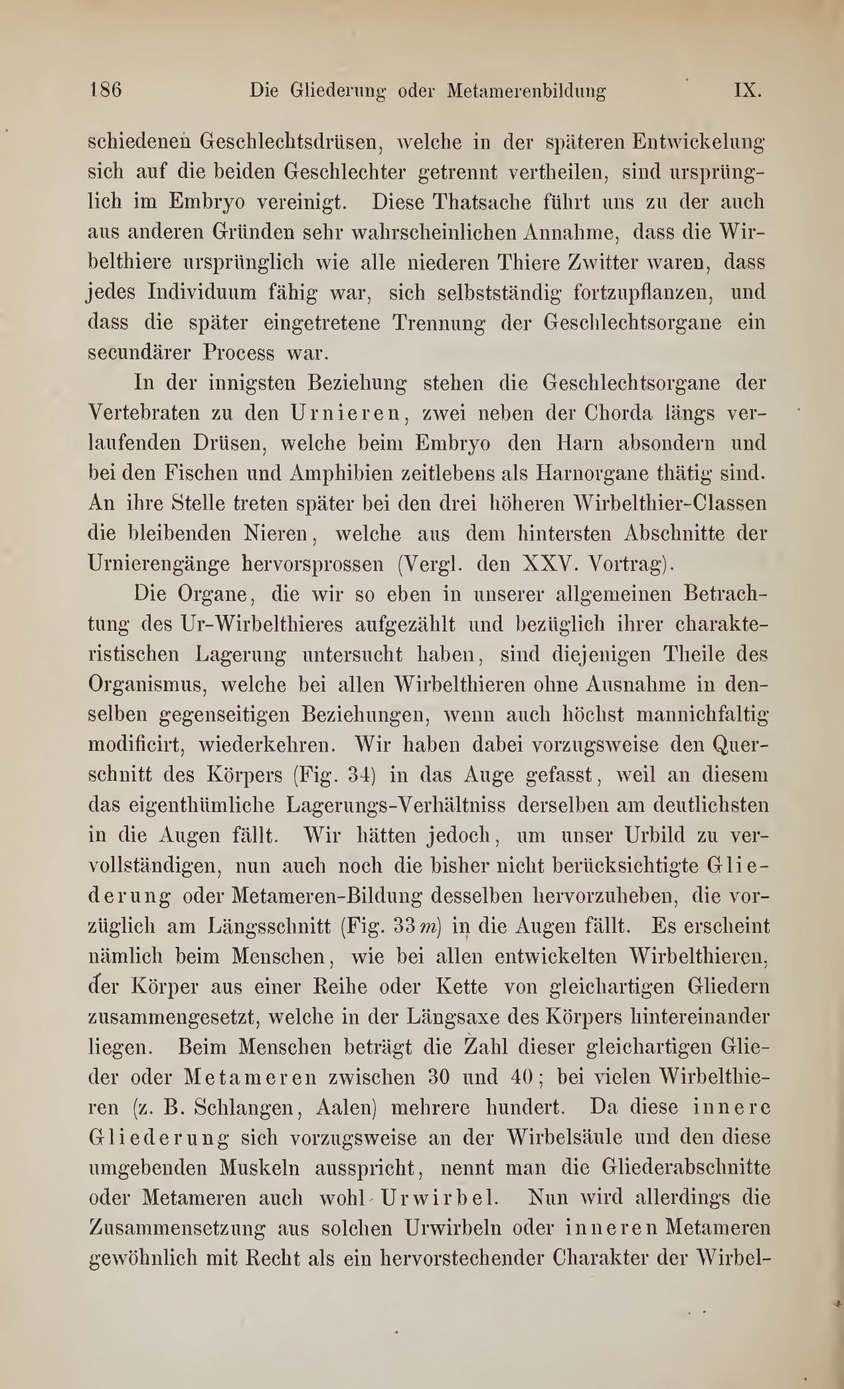MainZone: (66, 120, 791, 1285)
NumberingZone chapter: (725, 74, 774, 110)
NumberingZone_page: (77, 67, 140, 114)
RunningTitleZone: (240, 69, 620, 116)
